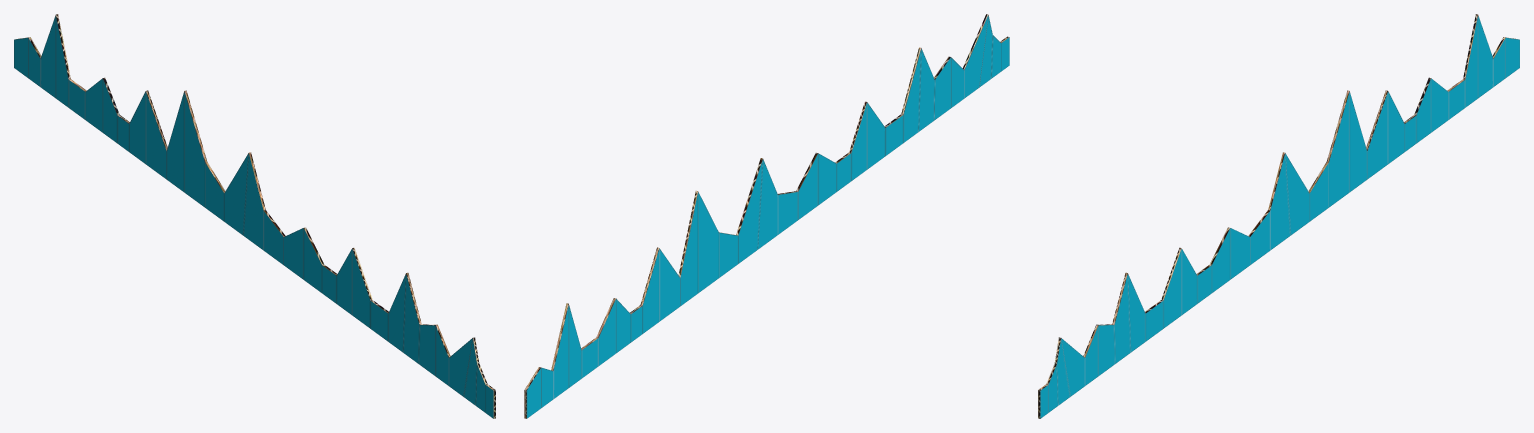
File: water.fbx
3 renders of one model, left to right at view 1: azimuth 30°, elevation 25°; view 2: azimuth 150°, elevation 25°; view 3: azimuth 330°, elevation 25°, orthographic.
Parts seen in each view (by area): view 1: pCube1; view 2: pCube1; view 3: pCube1.
Boxes of the visible parts, x1,y1,x2,y2 form: pCube1: [14, 14, 495, 418]; pCube1: [524, 14, 1009, 418]; pCube1: [1038, 14, 1519, 418].
Bounding box in the file's own units: 4.22 × 178 × 1522.
1 material, 1 textured.
